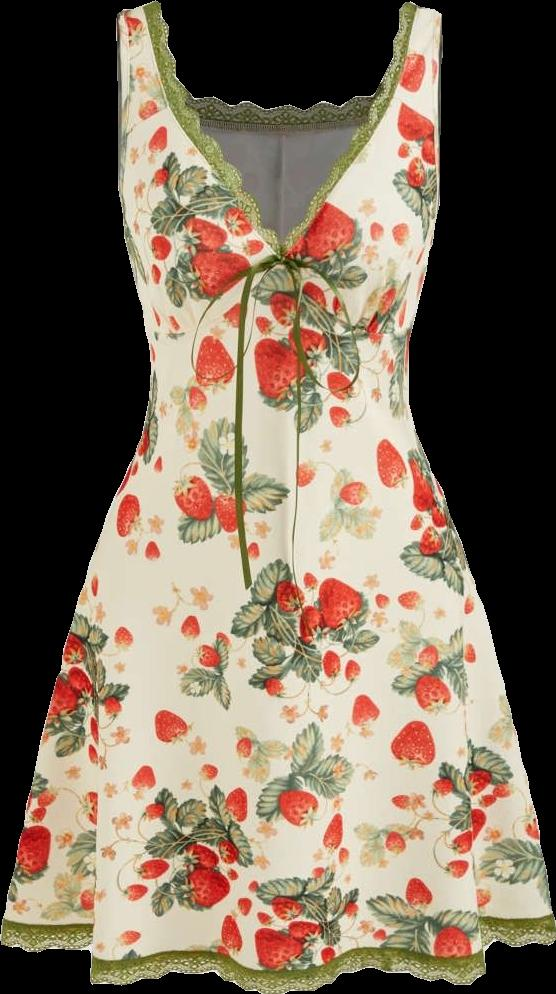Bodice: (116, 0, 442, 422)
Hemline: (0, 932, 555, 993)
Neckline: (149, 0, 414, 259)
Skirt: (0, 423, 555, 993)
